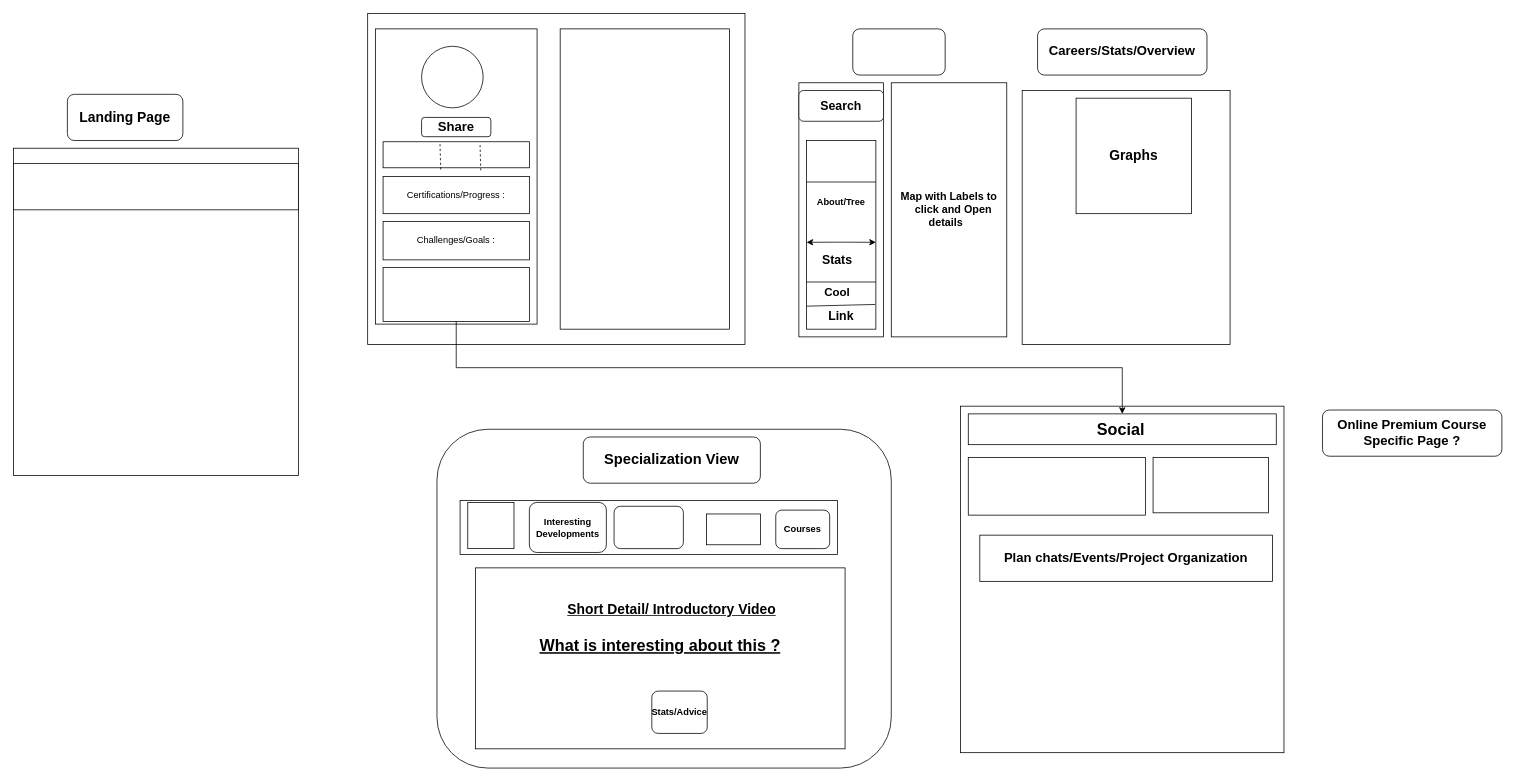
Image size: 1515x782. Some labels were removed from this diagram. The centre of each missing label's shape, as x and y in pixels:
"4 Level of Groups ; Collective Achievements :" belongs at point (455, 294).
"BookMarks" belongs at point (455, 154).
"Groups" belongs at point (490, 525).
"Jobs" belongs at point (733, 529).
"Make Groups to achieve a goal and get a mentor" belongs at point (1056, 486).
"Map VIew" belongs at point (898, 51).
"Resources" belongs at point (648, 527).
"Various Granularity of Groups" belongs at point (1210, 485).
